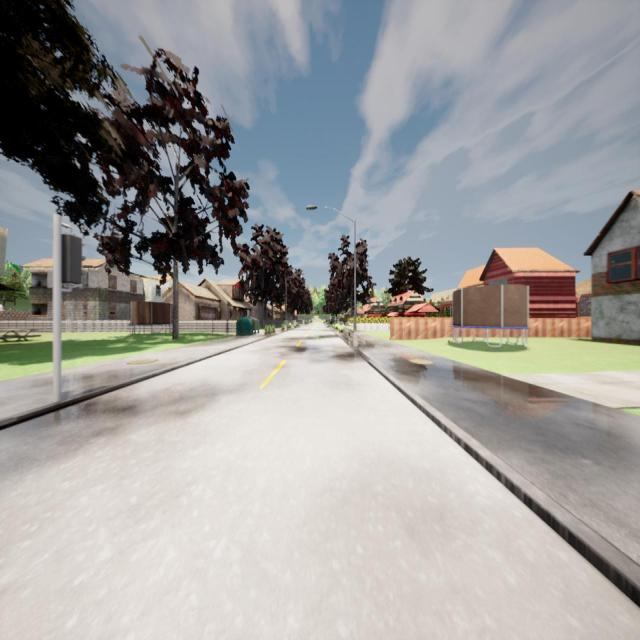traffic_light: (61, 234, 86, 285)
